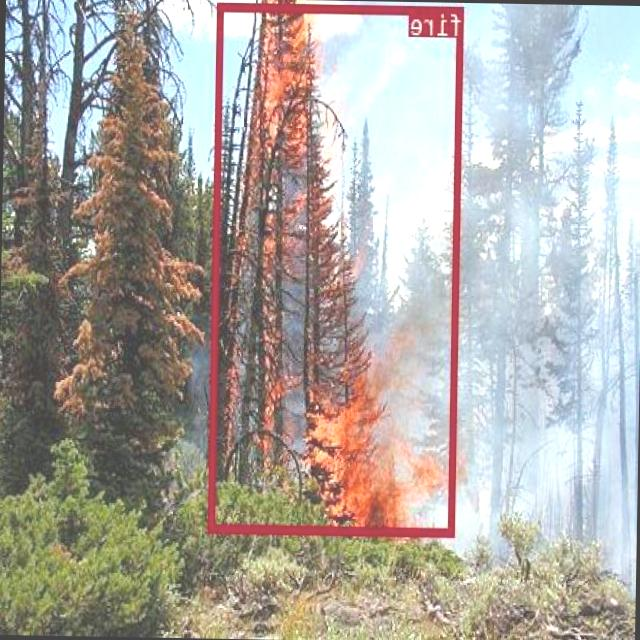fire: (210, 1, 465, 534)
